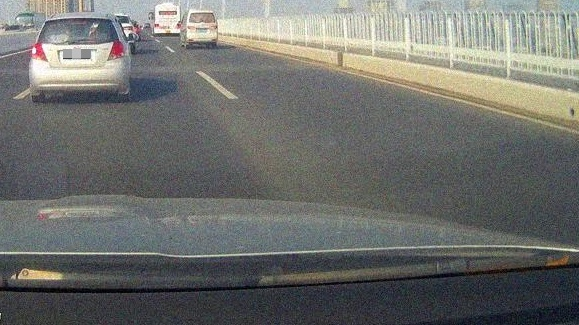L_light: (31, 42, 48, 62), (187, 26, 196, 29), (155, 23, 159, 27)
R_light: (106, 39, 125, 61), (210, 25, 217, 29), (176, 24, 181, 28)
T_light: (70, 19, 86, 23), (165, 5, 170, 8), (199, 12, 205, 14)
day-left: (29, 11, 131, 102)
day-no: (187, 10, 218, 48), (154, 3, 181, 36)
plate_1: (63, 49, 91, 59)
